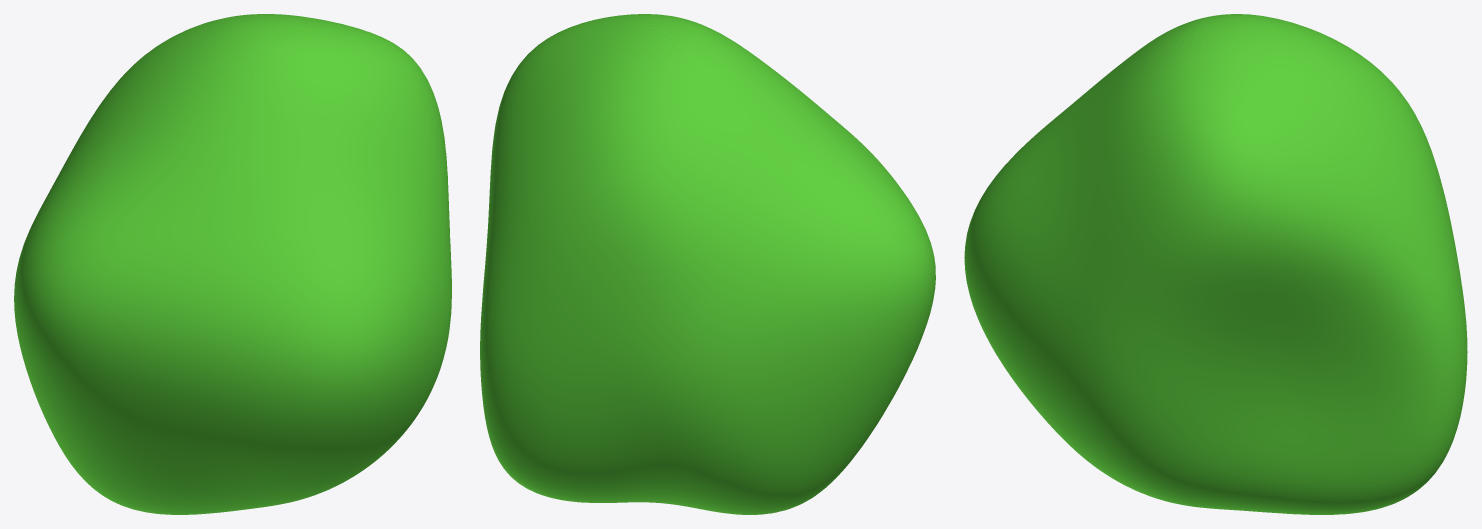
Rendered from test3Dfile.glb.
3 views of the same model, side by side, from view 1: azimuth 30°, elevation 25°; view 2: azimuth 150°, elevation 25°; view 3: azimuth 270°, elevation 25° (orthographic). The views are drawn at different scales.
Parts seen in each view (by area): view 1: Sphere; view 2: Sphere; view 3: Sphere.
Boxes of the visible parts, <box> form: Sphere: <box>14,14,451,514</box>; Sphere: <box>480,14,935,514</box>; Sphere: <box>964,14,1467,514</box>.
Size of the model in its own units: 2.21 by 2.36 by 2.23.
